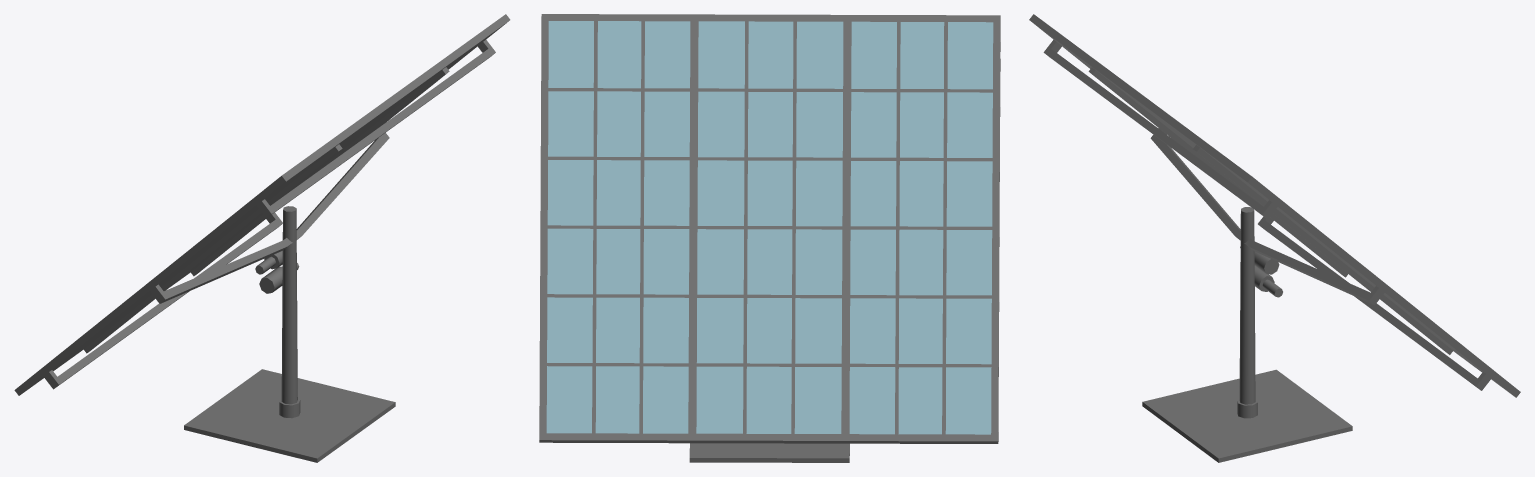
3 renders of one model, left to right at view 1: azimuth 30°, elevation 25°; view 2: azimuth 150°, elevation 25°; view 3: azimuth 270°, elevation 25°, orthographic. The views are drawn at different scales.
Visible parts, largest first — view 1: Cylinder.007; view 2: Cylinder.007; view 3: Cylinder.007.
Boxes of the visible parts, x1,y1,x2,y2 form: Cylinder.007: [14, 14, 510, 462]; Cylinder.007: [539, 14, 1000, 462]; Cylinder.007: [1029, 14, 1520, 462].
Bounding box in the file's own units: 255 × 182 × 232.
